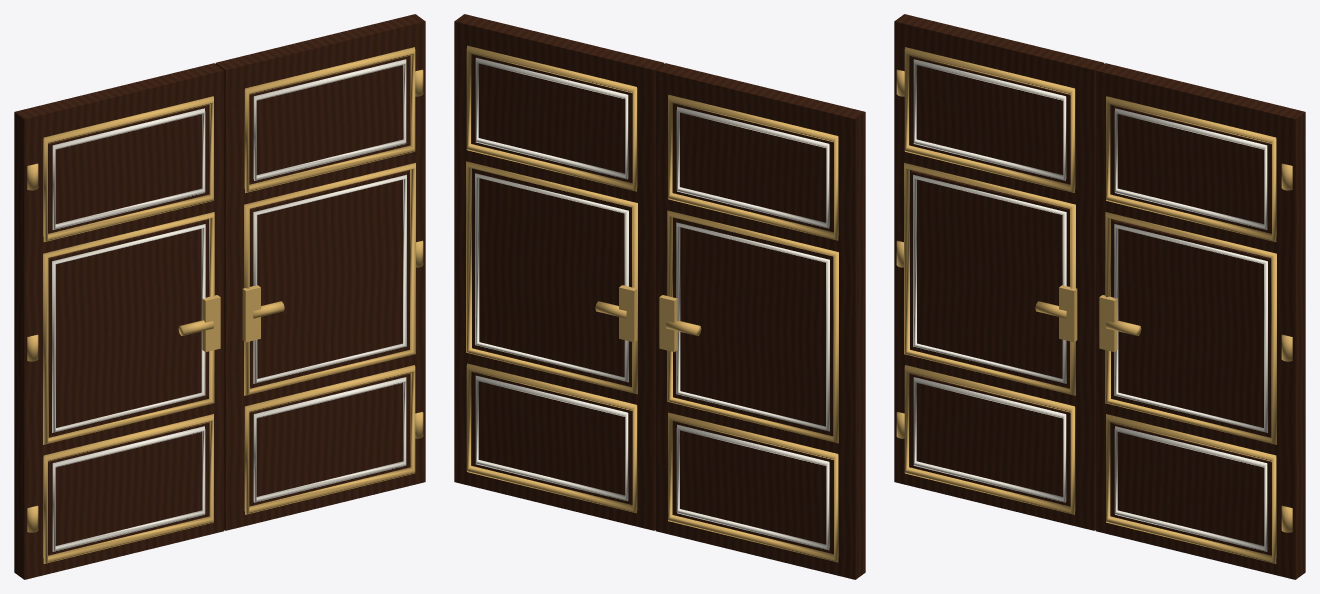
Rendered from palaceDoor.glb.
3 views of the same model, side by side, from view 1: azimuth 30°, elevation 25°; view 2: azimuth 150°, elevation 25°; view 3: azimuth 330°, elevation 25° (orthographic).
Parts seen in each view (by area): view 1: Oak_Leaf_Left.002, Oak_Leaf_Right.002; view 2: Oak_Leaf_Left.002, Oak_Leaf_Right.002; view 3: Oak_Leaf_Right.002, Oak_Leaf_Left.002.
Part boxes in pixels (x1,y1,x2,y2): Oak_Leaf_Left.002: [14, 63, 224, 579]; Oak_Leaf_Right.002: [215, 14, 425, 530]; Oak_Leaf_Left.002: [655, 63, 865, 579]; Oak_Leaf_Right.002: [454, 14, 664, 530]; Oak_Leaf_Right.002: [1095, 63, 1305, 579]; Oak_Leaf_Left.002: [894, 14, 1104, 530].
Size of the model in its own units: 3.19 by 3.5 by 0.396.
3 materials, 1 textured.
